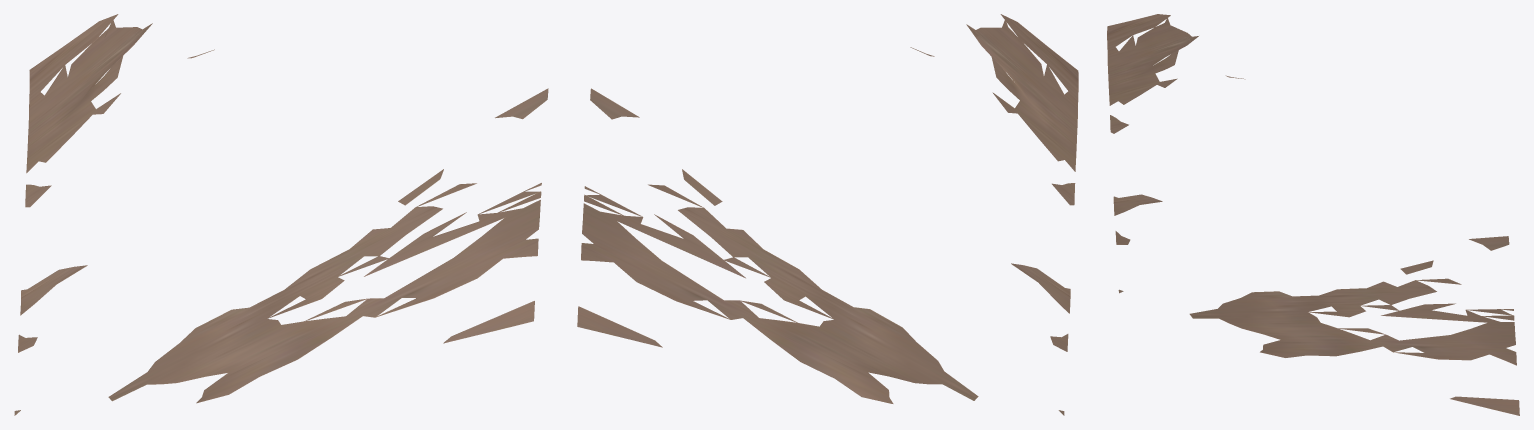
The picture shows the model from 3 angles, left to right: view 1: azimuth 30°, elevation 25°; view 2: azimuth 150°, elevation 25°; view 3: azimuth 330°, elevation 25°; orthographic projection. The views are drawn at different scales.
Size of the model in its own units: 27.37 by 21.46 by 1.77.
Materials: 1 (1 with a texture image).
